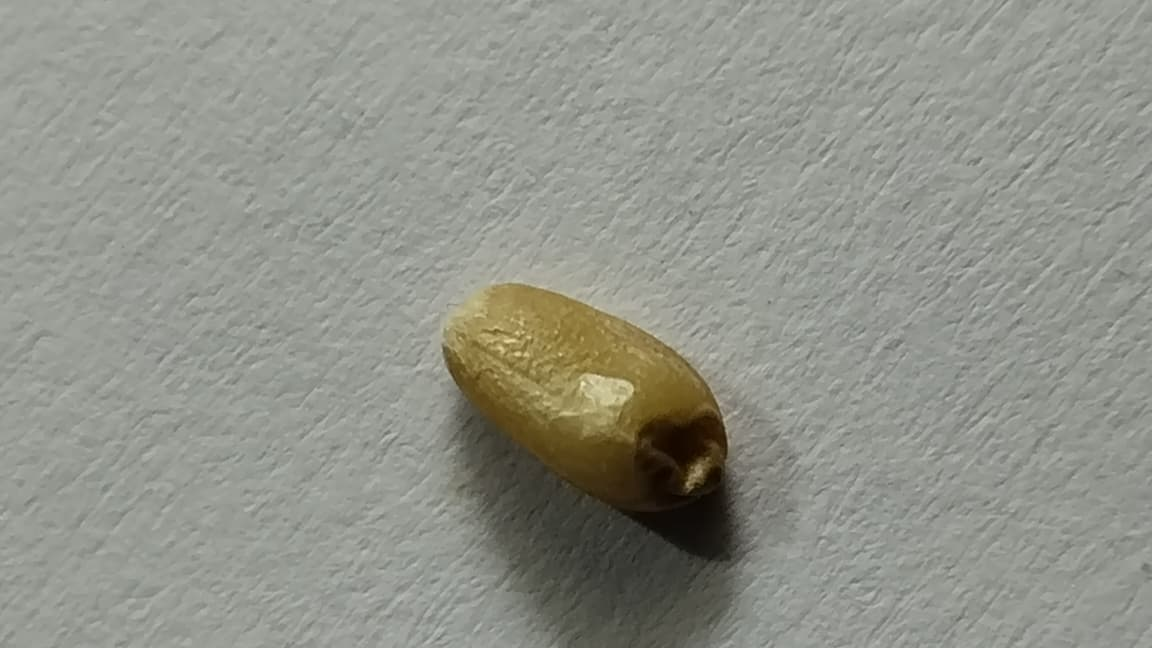healthy: (444, 283, 727, 510)
